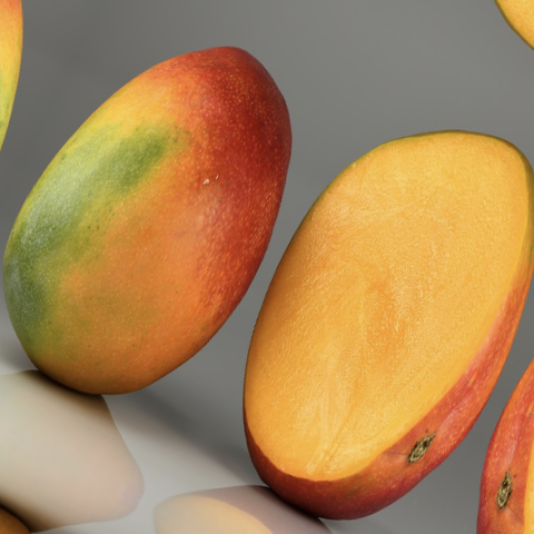mango: (159, 53, 534, 534), (0, 0, 352, 480)
